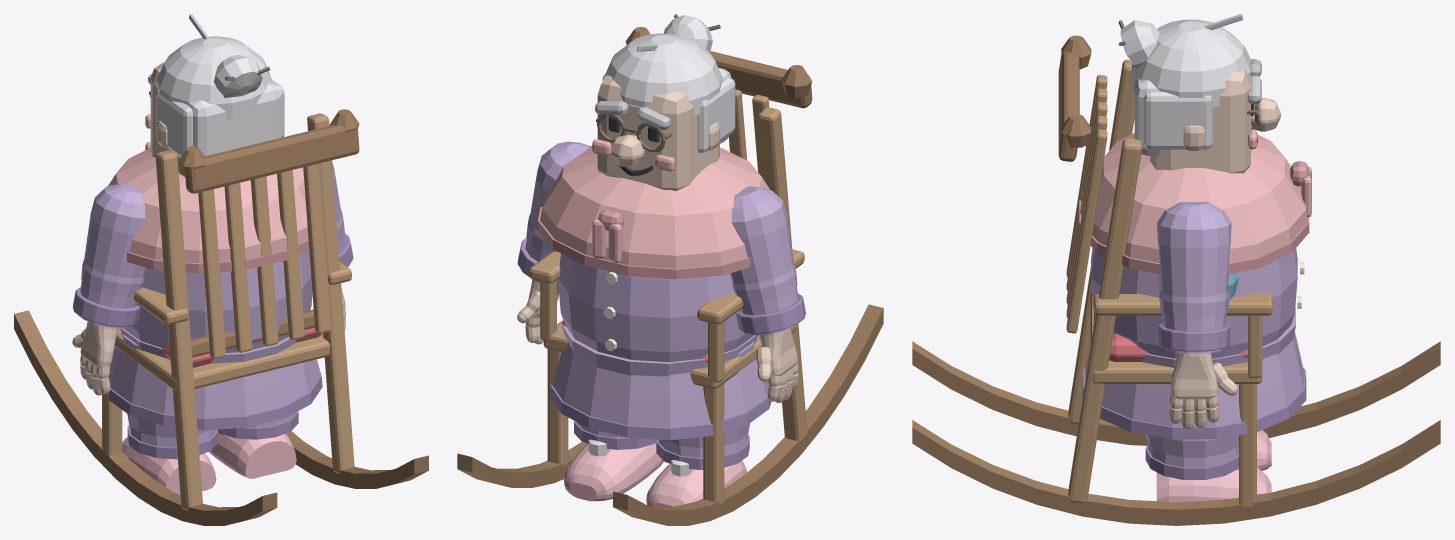
File: npc_granny.glb
3 renders of one model, left to right at view 1: azimuth 30°, elevation 25°; view 2: azimuth 150°, elevation 25°; view 3: azimuth 270°, elevation 25°, orthographic. The views are drawn at different scales.
Visible parts, largest first — view 1: Shawl, RockingChair_Post-1, RockingChair_Rocker-1, Skirt, RockingChair_TopRail, Belly, RockingChair_Post1, HairTop, UpperArm_L, HairBack, RockingChair_Seat, RockingChair_Rocker1 (+26 smaller); view 2: Shawl, Belly, Skirt, RockingChair_Rocker-1, HairTop, Face, UpperArm_L, Slipper_R, RockingChair_Post-1, SkirtBand, ShawlEdge, Waist (+27 smaller); view 3: Shawl, RockingChair_Rocker1, RockingChair_Rocker-1, RockingChair_Post1, Belly, HairTop, UpperArm_R, Skirt, Face, HairSide_1, RockingChair_Post-1, SkirtBand (+25 smaller).
Boxes of the visible parts, <box> form: Shawl: <box>108,148,308,263</box>; RockingChair_Post-1: <box>155,150,202,511</box>; RockingChair_Rocker-1: <box>14,310,277,525</box>; Skirt: <box>108,336,319,418</box>; RockingChair_TopRail: <box>185,124,359,193</box>; Belly: <box>123,249,312,352</box>; RockingChair_Post1: <box>307,113,354,474</box>; HairTop: <box>157,36,271,119</box>; UpperArm_L: <box>84,183,146,278</box>; HairBack: <box>186,82,281,156</box>; RockingChair_Seat: <box>114,328,329,391</box>; RockingChair_Rocker1: <box>285,431,428,488</box>; Shawl: <box>540,146,769,268</box>; Belly: <box>558,253,754,362</box>; Skirt: <box>552,343,768,427</box>; RockingChair_Rocker-1: <box>613,304,883,525</box>; HairTop: <box>605,33,722,115</box>; Face: <box>597,75,719,190</box>; UpperArm_L: <box>730,186,793,283</box>; Slipper_R: <box>563,443,663,501</box>; RockingChair_Post-1: <box>758,107,807,441</box>; SkirtBand: <box>549,384,771,440</box>; ShawlEdge: <box>538,207,750,279</box>; Waist: <box>561,321,757,376</box>; Shawl: <box>1081,133,1307,263</box>; RockingChair_Rocker1: <box>912,420,1440,525</box>; RockingChair_Rocker-1: <box>912,341,1440,445</box>; RockingChair_Post1: <box>1068,138,1141,503</box>; Belly: <box>1091,248,1297,358</box>; HairTop: <box>1132,19,1250,107</box>; UpperArm_R: <box>1157,202,1231,296</box>; Skirt: <box>1085,332,1303,426</box>; Face: <box>1150,45,1250,173</box>; HairSide_1: <box>1144,91,1213,149</box>; RockingChair_Post-1: <box>1068,59,1134,424</box>; SkirtBand: <box>1082,367,1306,439</box>.
Size of the model in its own units: 0.9289 by 1.45 by 1.48.
